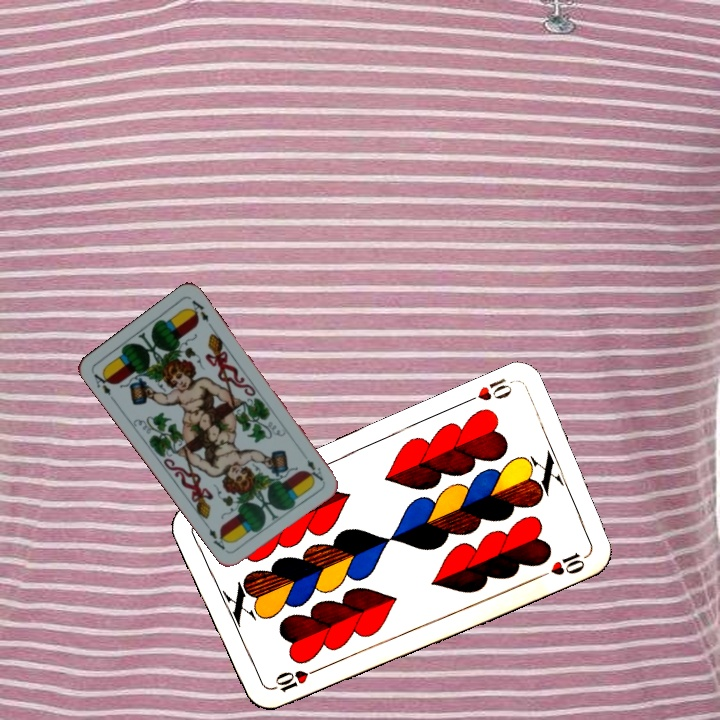EA: (89, 368, 118, 404), (303, 455, 326, 484)
H10: (459, 374, 515, 407), (266, 663, 323, 695)
